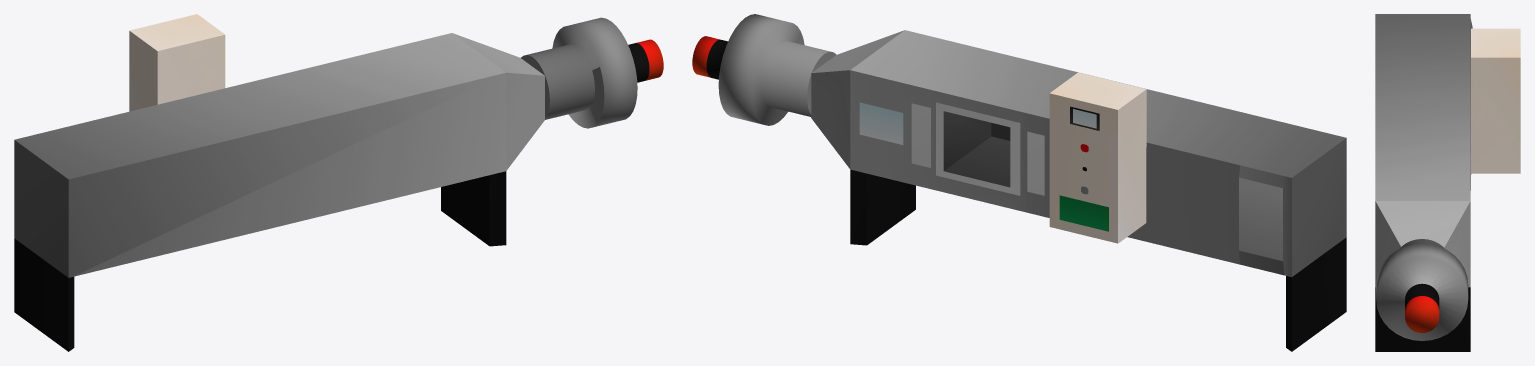
File: Secador de túnel.fbx
The picture shows the model from 3 angles, left to right: view 1: azimuth 30°, elevation 25°; view 2: azimuth 150°, elevation 25°; view 3: azimuth 270°, elevation 25°; orthographic projection. The views are drawn at different scales.
Visible parts, largest first — view 1: Cylinder; view 2: Cylinder; view 3: Cylinder.
Boxes of the visible parts, left/top/right/bottom form: Cylinder: left=14, top=14, right=663, bottom=351; Cylinder: left=692, top=14, right=1346, bottom=351; Cylinder: left=1375, top=14, right=1520, bottom=351.
Size of the model in its own units: 1301 by 458 by 305.
